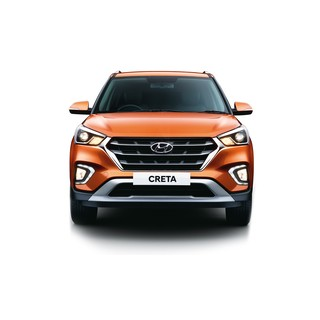car: (70, 70, 253, 226)
